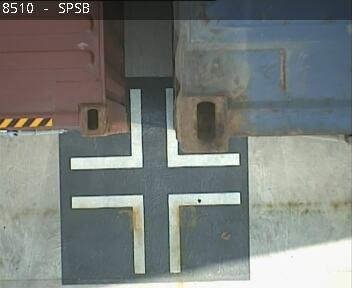groundmarker_1: (69, 87, 241, 172), (70, 190, 242, 274)
